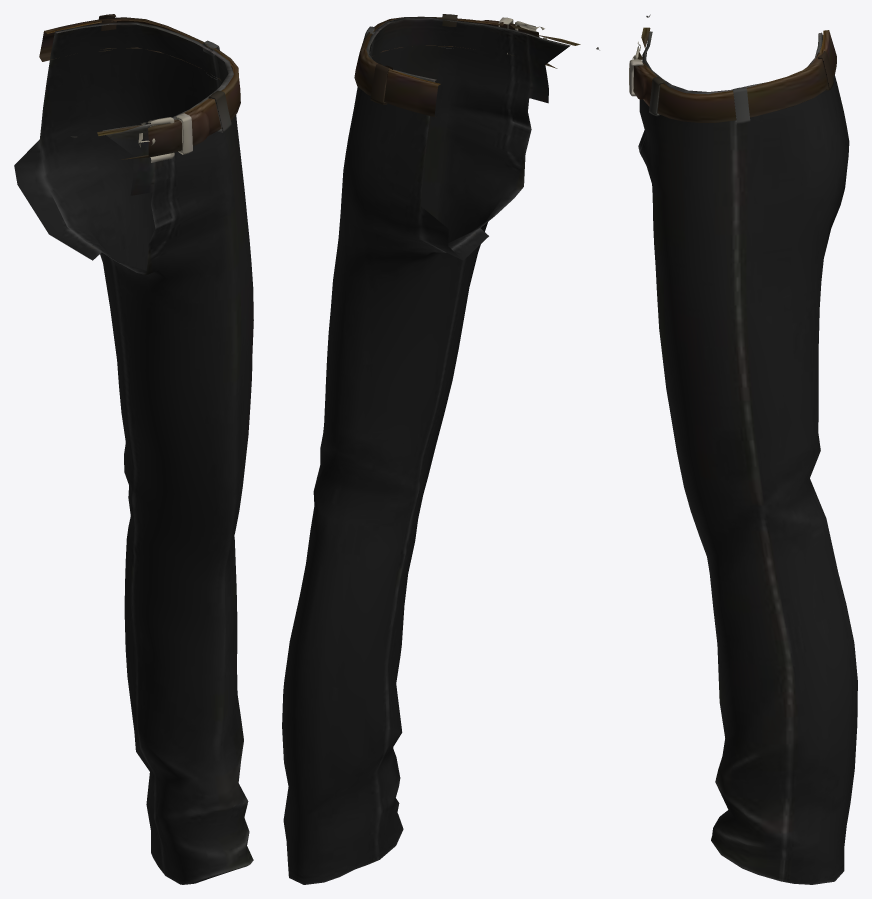
The model's file is profesor__piernaizq.glb.
The picture shows the model from 3 angles, left to right: view 1: azimuth 30°, elevation 25°; view 2: azimuth 150°, elevation 25°; view 3: azimuth 270°, elevation 25°; orthographic projection. The views are drawn at different scales.
Visible parts, largest first — view 1: Object_25.002; view 2: Object_25.002; view 3: Object_25.002.
Boxes of the visible parts, left/top/right/bottom form: Object_25.002: left=14, top=14, right=253, bottom=884; Object_25.002: left=282, top=14, right=599, bottom=884; Object_25.002: left=629, top=14, right=857, bottom=884.
Bounding box in the file's own units: 0.0843 × 0.2857 × 0.0752.
1 material, 1 textured.
